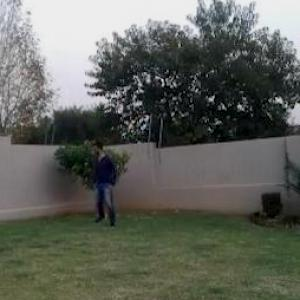follow: (91, 137, 119, 232)
